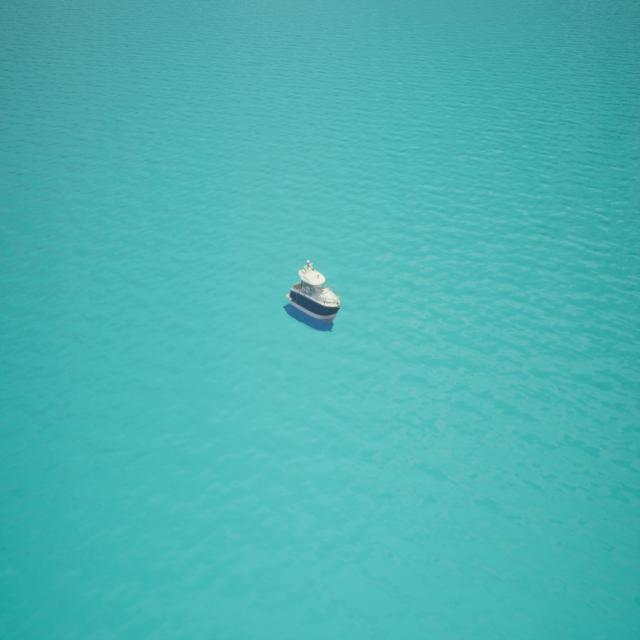ship: (286, 256, 342, 325)
